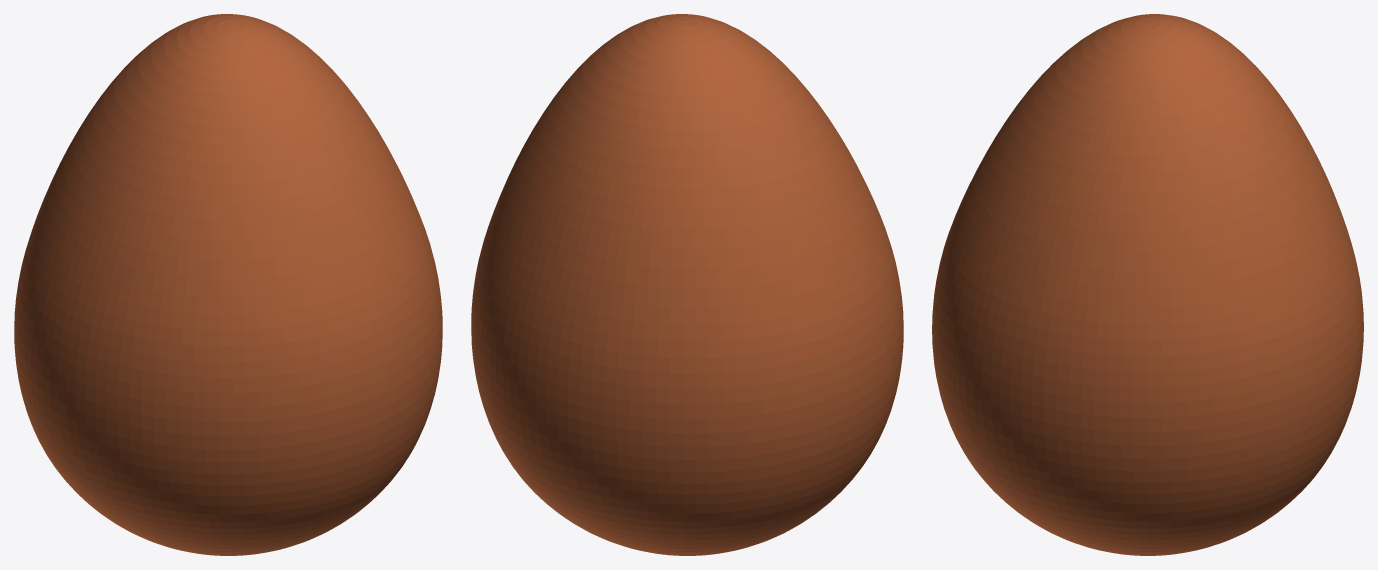
The model's file is egg.fbx.
3 views of the same model, side by side, from view 1: azimuth 30°, elevation 25°; view 2: azimuth 150°, elevation 25°; view 3: azimuth 270°, elevation 25° (orthographic).
Visible parts, largest first — view 1: Sphere; view 2: Sphere; view 3: Sphere.
Boxes of the visible parts, x1,y1,x2,y2 form: Sphere: [14, 14, 442, 555]; Sphere: [471, 14, 903, 555]; Sphere: [932, 14, 1363, 555].
Size of the model in its own units: 200 by 263 by 200.
